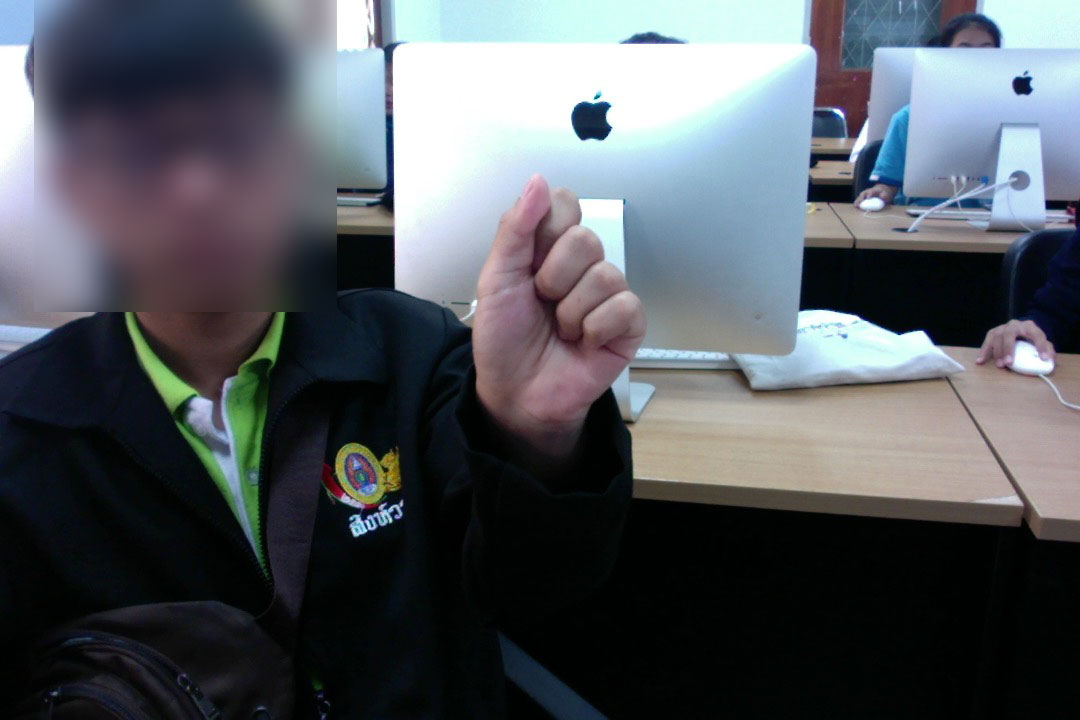or: (465, 166, 652, 447)
